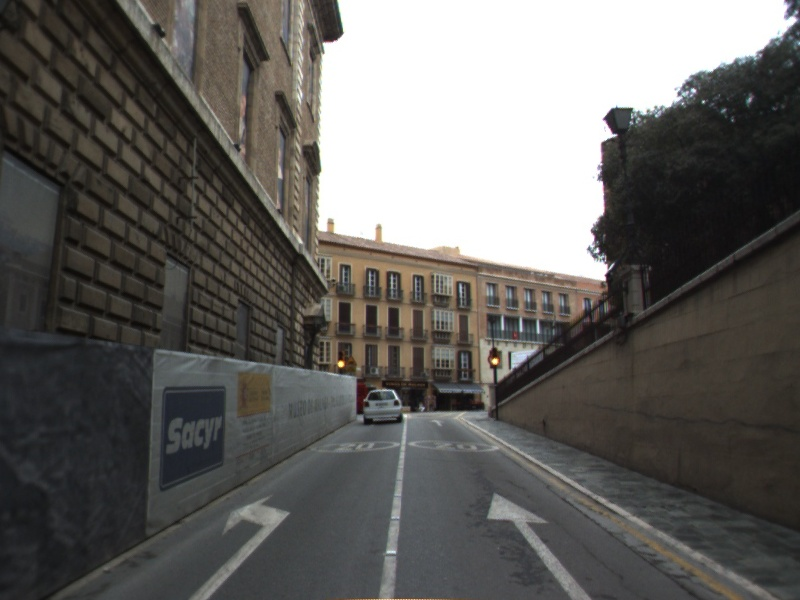LEFT: (185, 492, 292, 600)
STRAIGHT: (485, 490, 593, 600), (428, 418, 446, 428)
